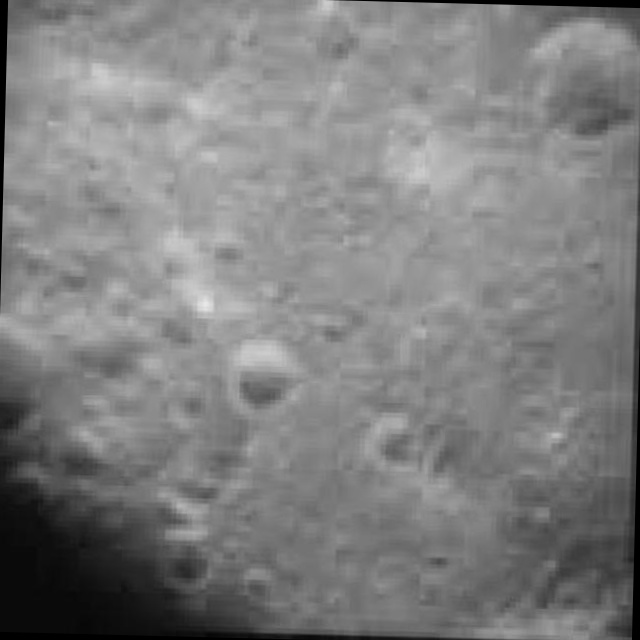crater: (518, 6, 638, 120), (226, 340, 306, 417)
